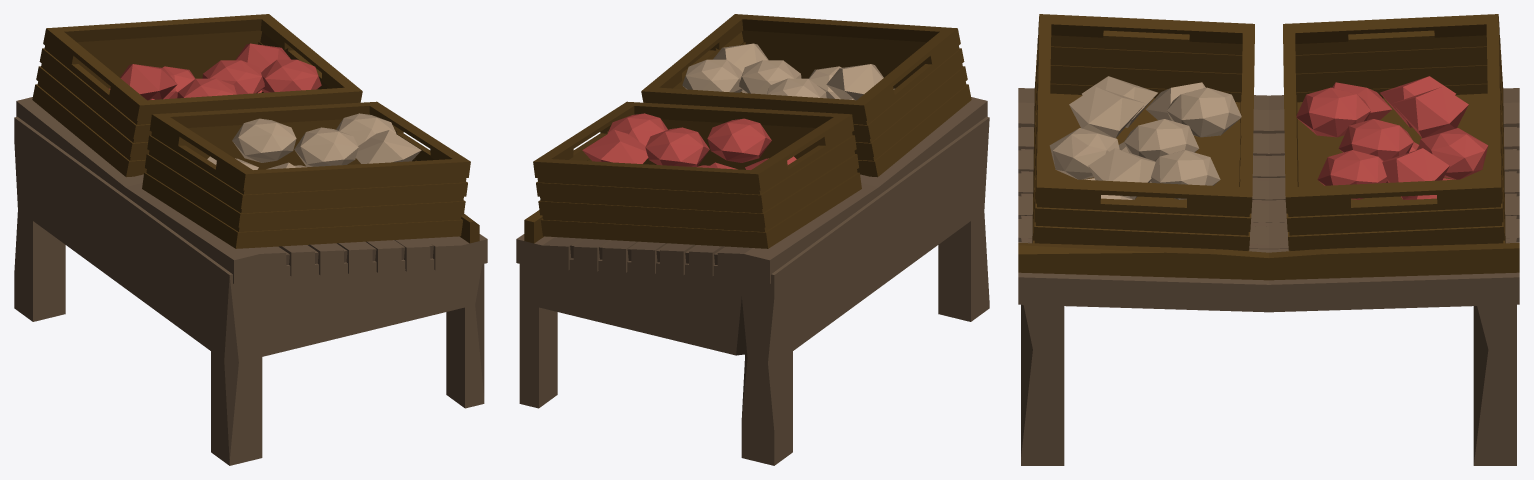
Rendered from Store_props.fbx.
3 views of the same model, side by side, from view 1: azimuth 30°, elevation 25°; view 2: azimuth 150°, elevation 25°; view 3: azimuth 270°, elevation 25° (orthographic). The views are drawn at different scales.
Visible parts, largest first — view 1: Table; view 2: Table; view 3: Table.
Part boxes in pixels (box(x1,y1,x2,y2)): Table: box(14, 14, 487, 465); Table: box(516, 14, 989, 465); Table: box(1018, 14, 1519, 465).
Size of the model in its own units: 158 by 165 by 232.
